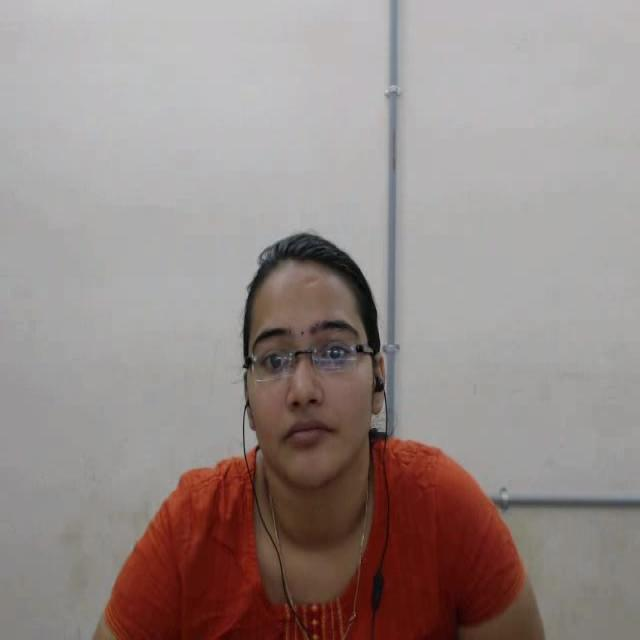Engaged: (201, 216, 410, 516)
